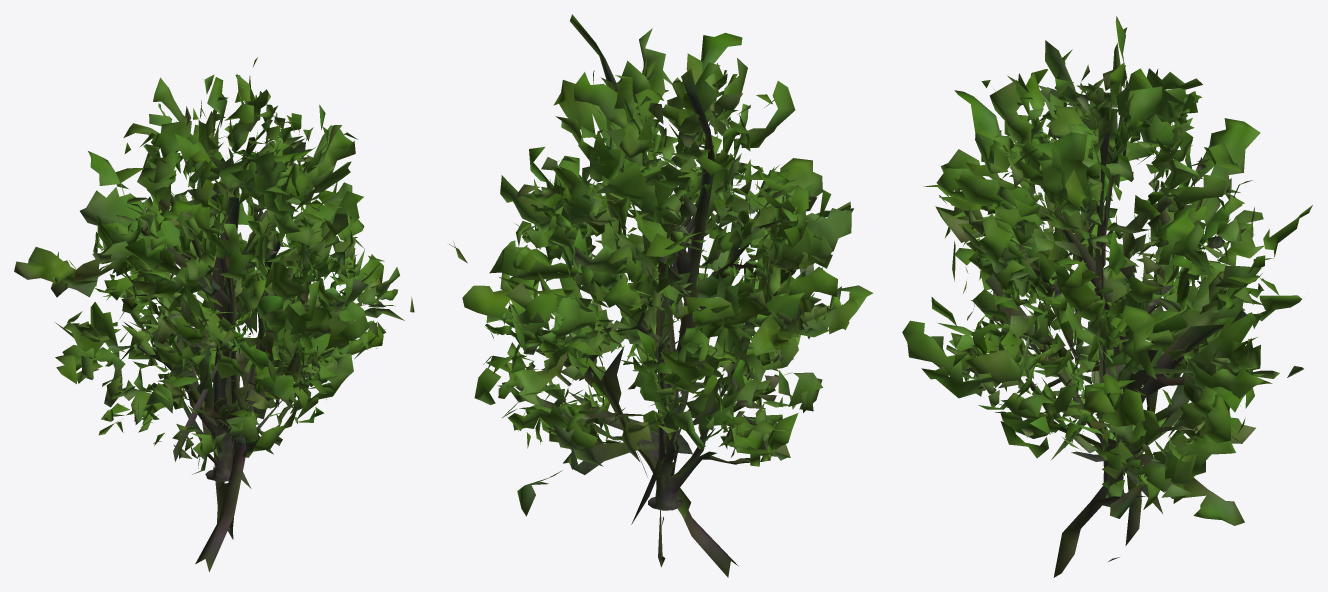
File: tree_09_round_green.glb
3 renders of one model, left to right at view 1: azimuth 30°, elevation 25°; view 2: azimuth 150°, elevation 25°; view 3: azimuth 270°, elevation 25°, orthographic. The views are drawn at different scales.
Parts seen in each view (by area): view 1: geometry_0; view 2: geometry_0; view 3: geometry_0.
Boxes of the visible parts, x1,y1,x2,y2 form: geometry_0: (14,57,414,571); geometry_0: (449,14,872,577); geometry_0: (902,16,1312,577).
Bounding box in the file's own units: 0.7164 × 1 × 0.6516.
1 material, 1 textured.
